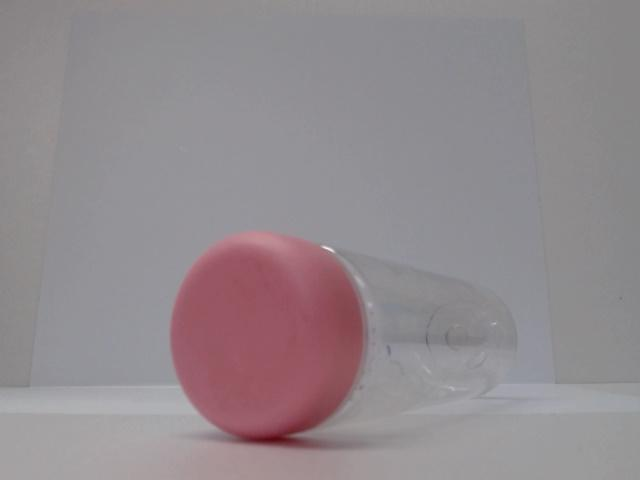bottle: (148, 234, 538, 429)
